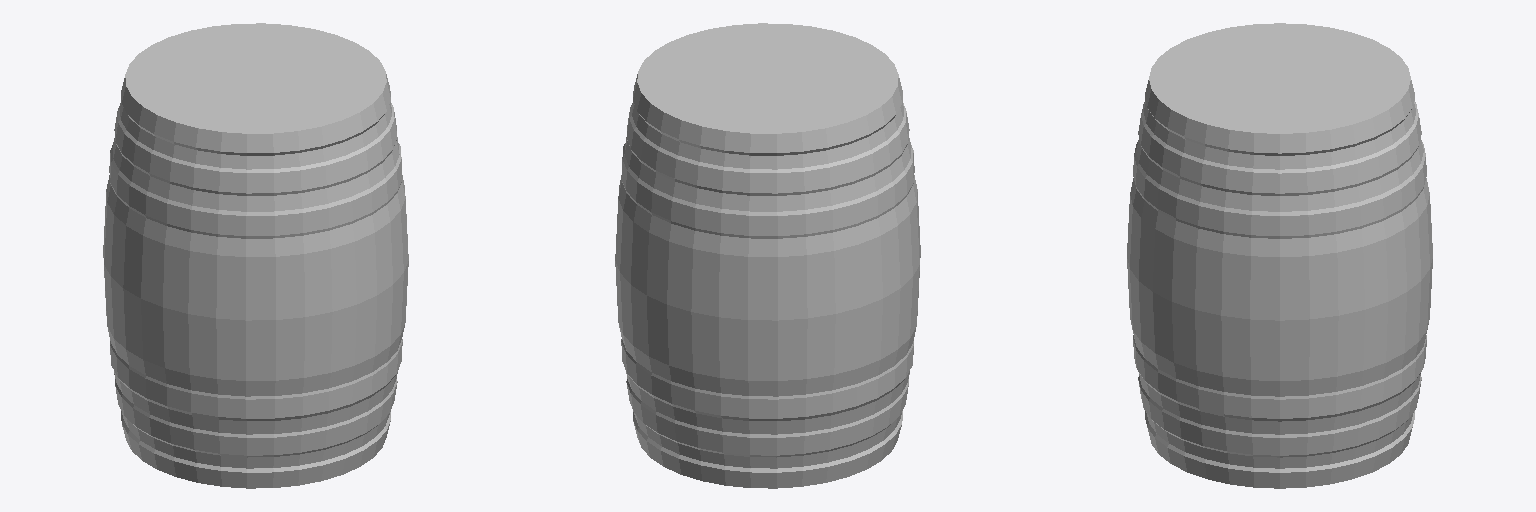
File: barrel.obj
3 views of the same model, side by side, from view 1: azimuth 30°, elevation 25°; view 2: azimuth 150°, elevation 25°; view 3: azimuth 270°, elevation 25° (orthographic).
Visible parts, largest first — view 1: Mesh_Mesh_Cylinder.001; view 2: Mesh_Mesh_Cylinder.001; view 3: Mesh_Mesh_Cylinder.001.
Part boxes in pixels (bbox=[...]): Mesh_Mesh_Cylinder.001: bbox=[103, 23, 408, 488]; Mesh_Mesh_Cylinder.001: bbox=[615, 23, 920, 488]; Mesh_Mesh_Cylinder.001: bbox=[1127, 23, 1432, 488].
Bounding box in the file's own units: 4.72 × 6.03 × 4.72.